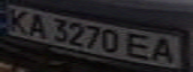0: (100, 26, 124, 55)
2: (66, 20, 87, 47)
3: (45, 16, 72, 44)
7: (81, 22, 103, 51)
A: (145, 36, 184, 65), (21, 11, 51, 39)
E: (124, 32, 157, 61)
K: (0, 6, 36, 34)
